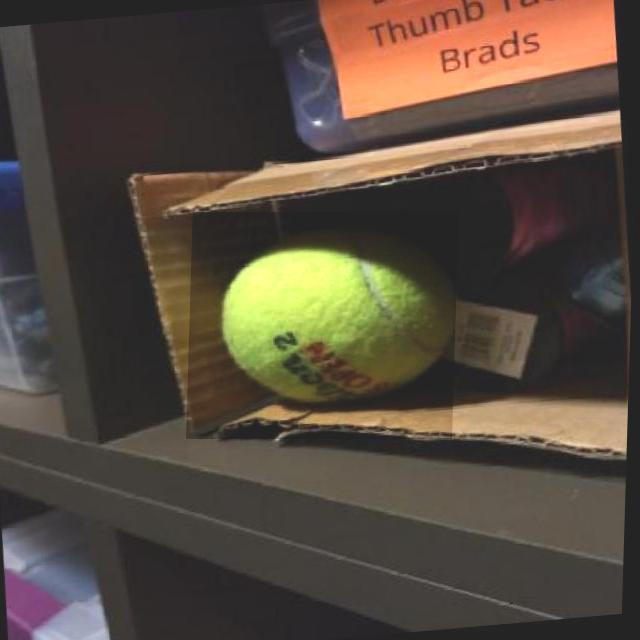-: (189, 212, 460, 439)
